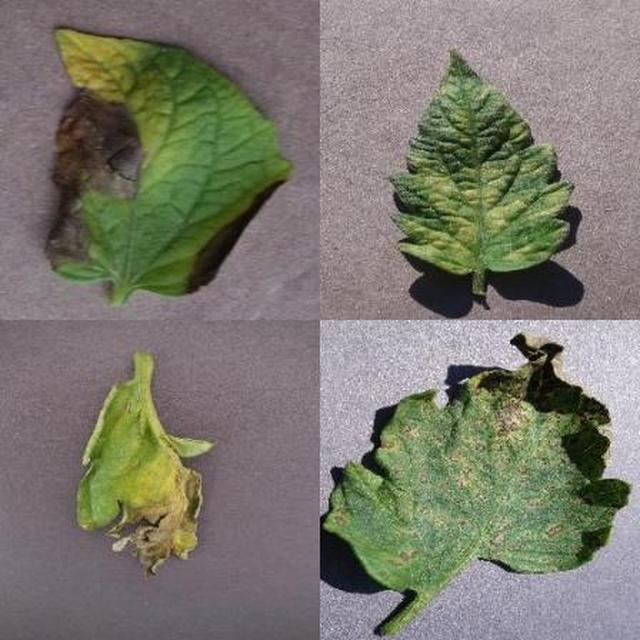Early Blight Leaf: (196, 231, 640, 640)
